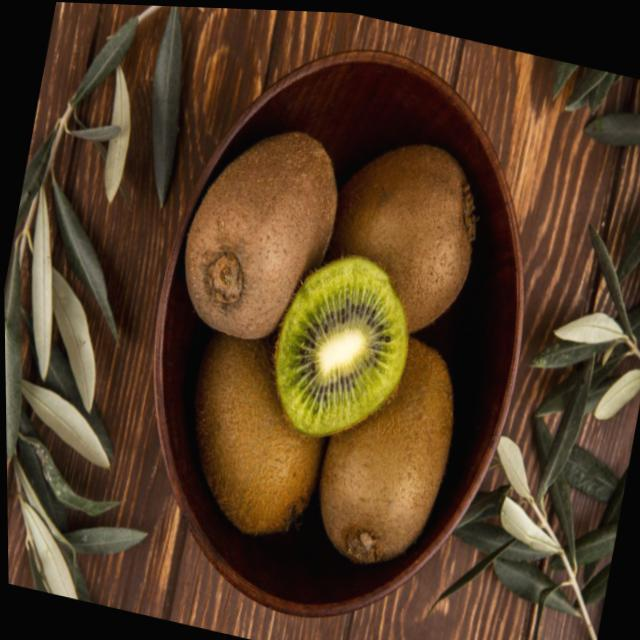kiwi: (302, 316, 467, 577), (322, 116, 494, 352), (172, 122, 346, 354), (170, 341, 332, 537)
